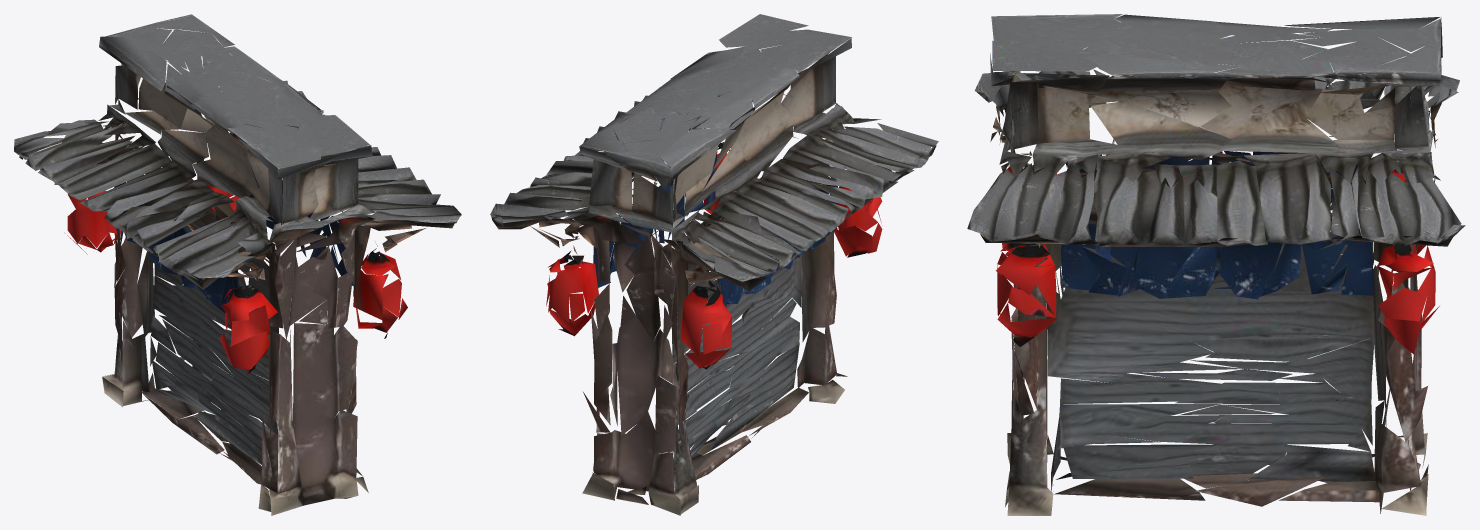
File: shutter_shop.glb
3 views of the same model, side by side, from view 1: azimuth 30°, elevation 25°; view 2: azimuth 150°, elevation 25°; view 3: azimuth 270°, elevation 25° (orthographic). The views are drawn at different scales.
Parts seen in each view (by area): view 1: tripo_node_d017ca22-6cdc-4fa3-bc00-2d1975624ffe; view 2: tripo_node_d017ca22-6cdc-4fa3-bc00-2d1975624ffe; view 3: tripo_node_d017ca22-6cdc-4fa3-bc00-2d1975624ffe.
Boxes of the visible parts, x1,y1,x2,y2 form: tripo_node_d017ca22-6cdc-4fa3-bc00-2d1975624ffe: (14,14,461,515); tripo_node_d017ca22-6cdc-4fa3-bc00-2d1975624ffe: (490,14,938,515); tripo_node_d017ca22-6cdc-4fa3-bc00-2d1975624ffe: (967,14,1465,515).
Bounding box in the file's own units: 2.06 × 2.52 × 2.54.
Materials: 1 (1 with a texture image).
